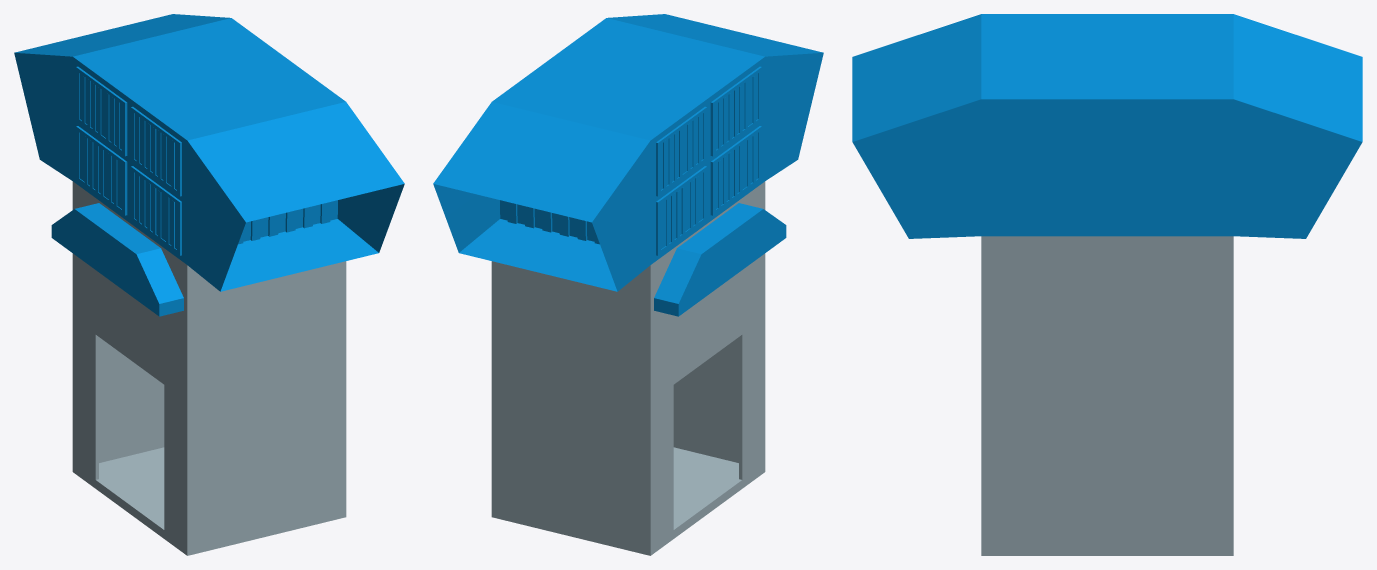
3 views of the same model, side by side, from view 1: azimuth 30°, elevation 25°; view 2: azimuth 150°, elevation 25°; view 3: azimuth 270°, elevation 25° (orthographic). The views are drawn at different scales.
Parts seen in each view (by area): view 1: Cube.001, Cube, Cube.003; view 2: Cube.001, Cube, Cube.003; view 3: Cube.001, Cube.
Boxes of the visible parts, <box> form: Cube.001: <box>14,14,404,291</box>; Cube: <box>72,181,346,555</box>; Cube.003: <box>51,203,183,316</box>; Cube.001: <box>433,14,823,291</box>; Cube: <box>491,181,765,555</box>; Cube.003: <box>654,203,786,316</box>; Cube.001: <box>852,14,1362,238</box>; Cube: <box>981,236,1233,555</box>.
Bounding box in the file's own units: 924 × 2000 × 2024.
